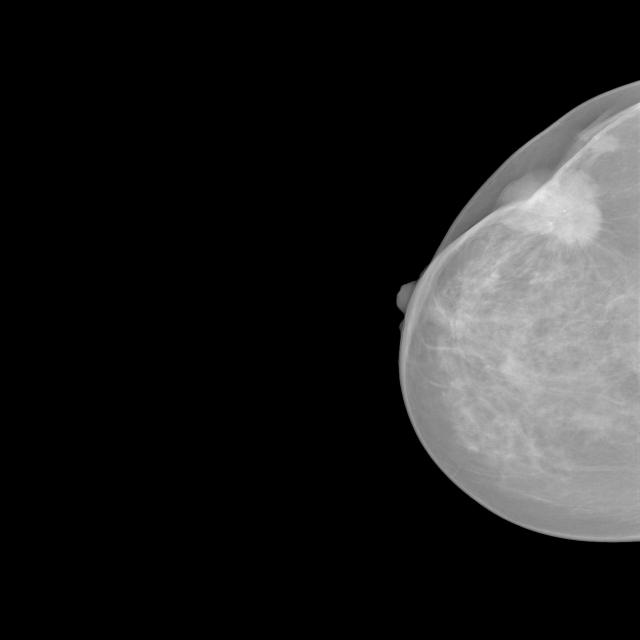Mass_1: (468, 151, 629, 271)
Mass_2: (578, 124, 629, 168)
